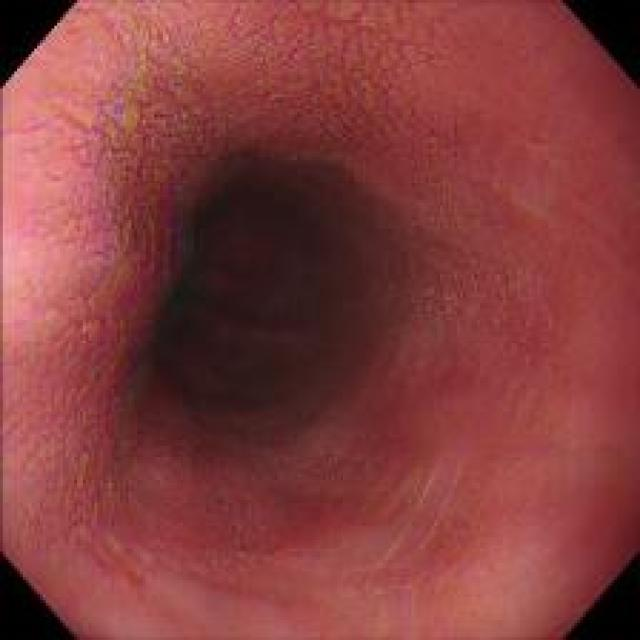color misalignment: (165, 192, 202, 301)
contrast: (155, 136, 411, 454)
